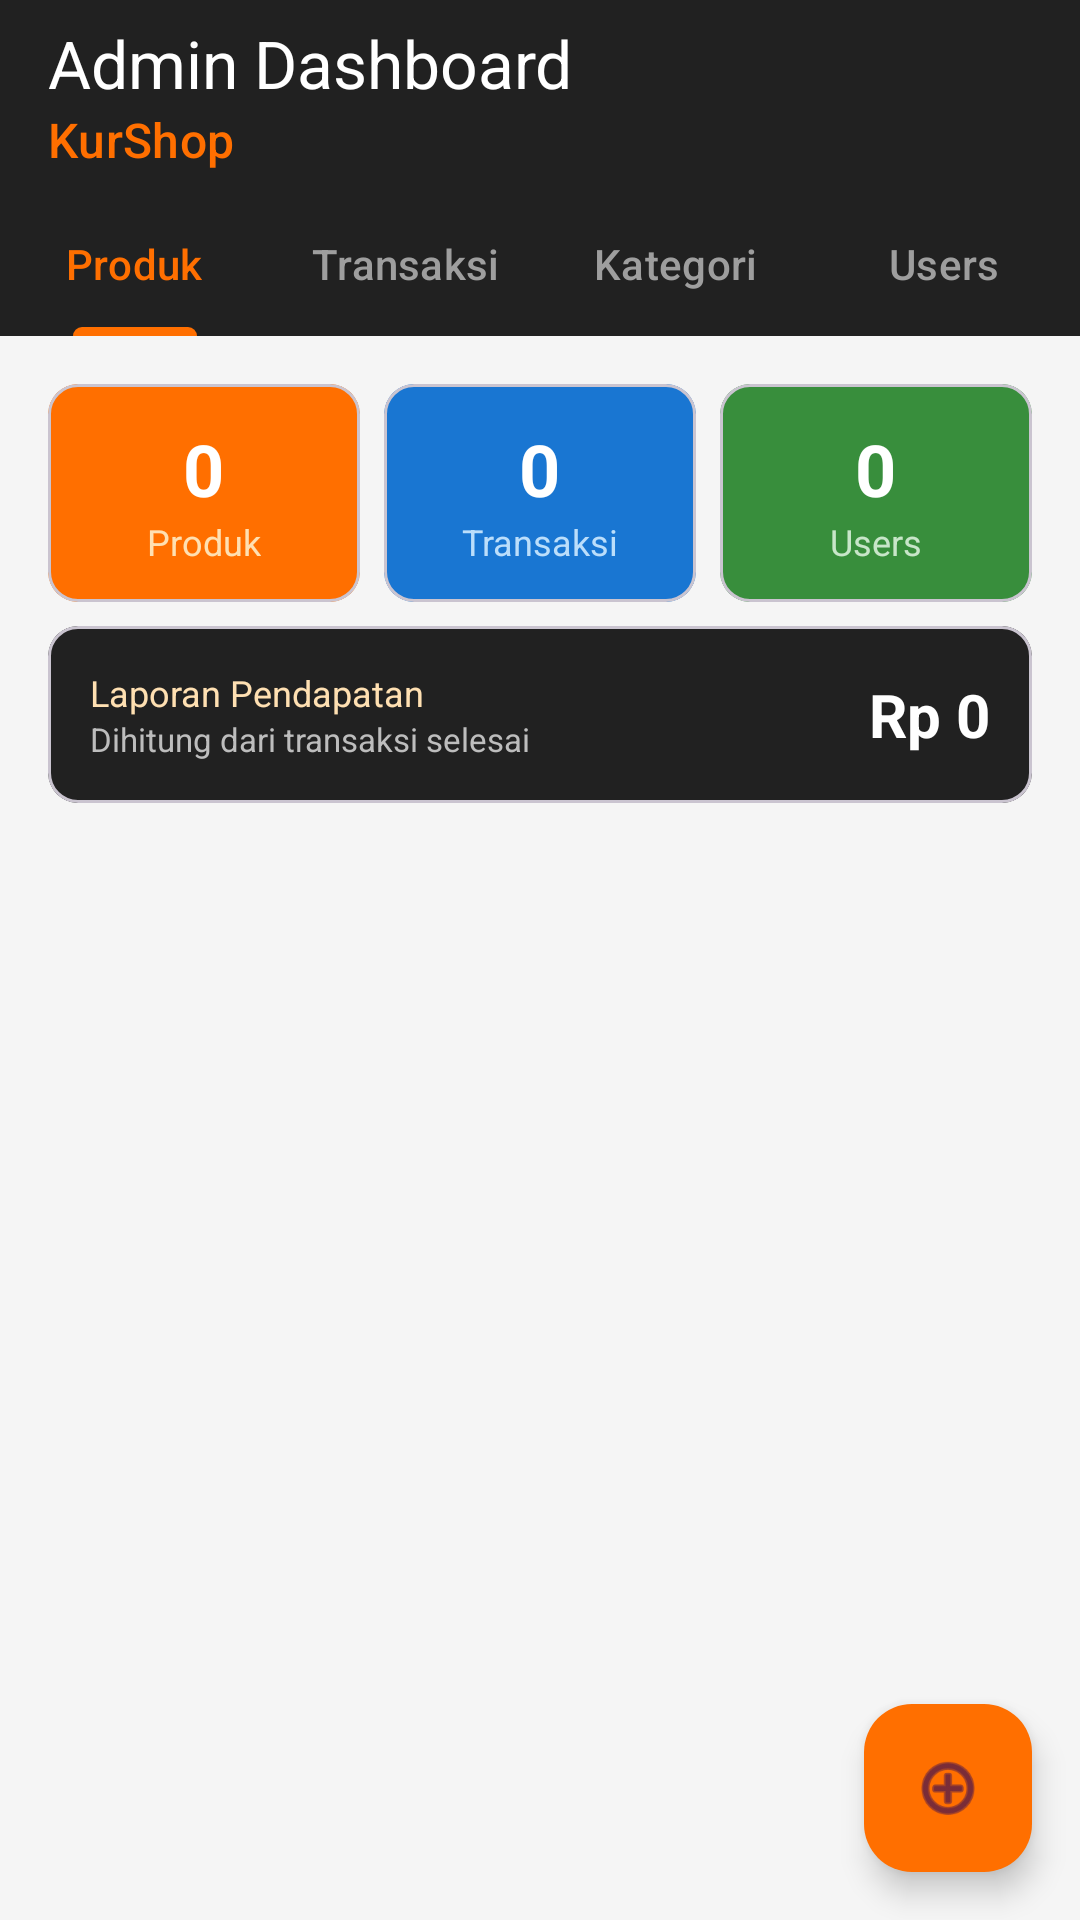

Icons on this 1080x1920 Android screen, each with the point to tap as (x,y):
Tambah: (948,1788)
